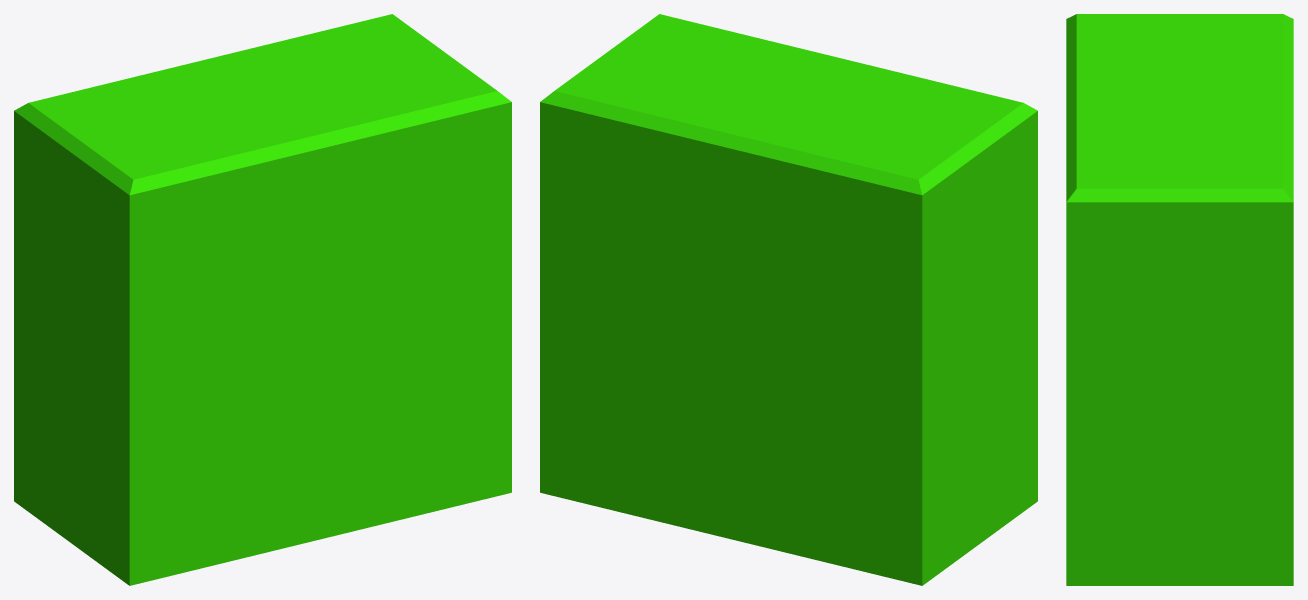
Rendered from basic_2x2.fbx.
3 views of the same model, side by side, from view 1: azimuth 30°, elevation 25°; view 2: azimuth 150°, elevation 25°; view 3: azimuth 270°, elevation 25° (orthographic).
Parts seen in each view (by area): view 1: basic_2x2; view 2: basic_2x2; view 3: basic_2x2.
Boxes of the visible parts, x1=… form: basic_2x2: x1=14, y1=14, x2=511, y2=585; basic_2x2: x1=540, y1=14, x2=1037, y2=585; basic_2x2: x1=1066, y1=14, x2=1293, y2=585.
Size of the model in its own units: 210 by 210 by 110.
